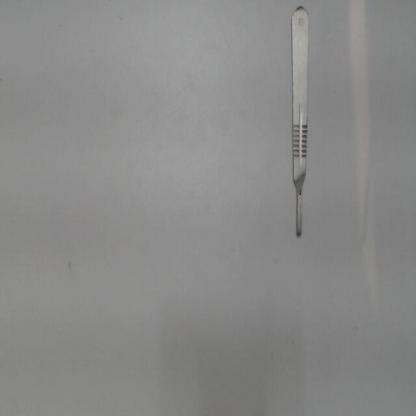No.4 BP Handle: (284, 3, 316, 246)
